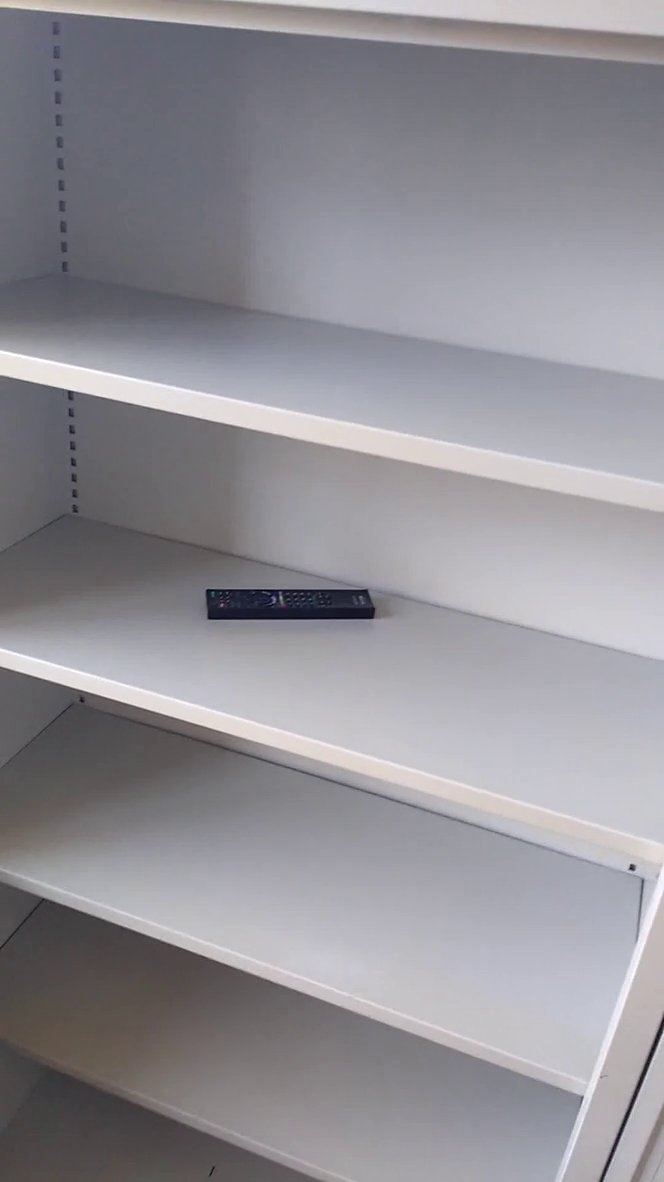remote: (201, 580, 385, 636)
